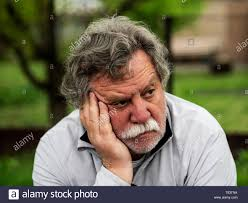white_male: (77, 43, 178, 172)
